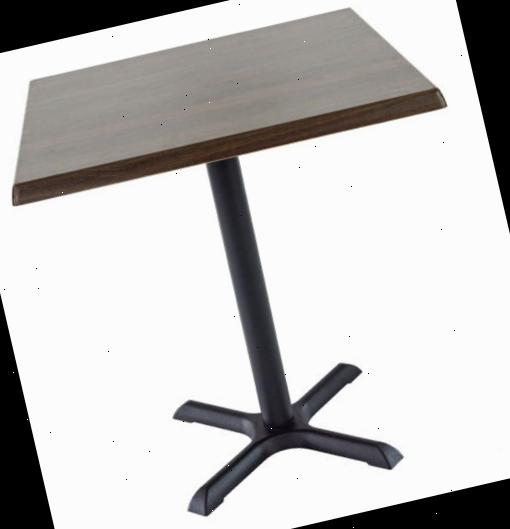Clean Table: (0, 0, 498, 298)
